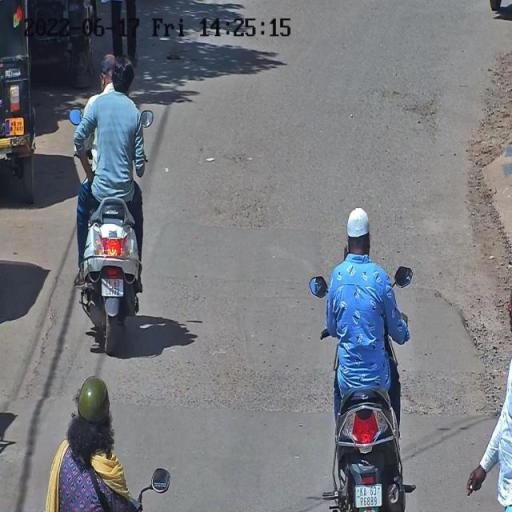numberplate: (354, 482, 384, 508)
using mobile: (342, 239, 352, 263)
